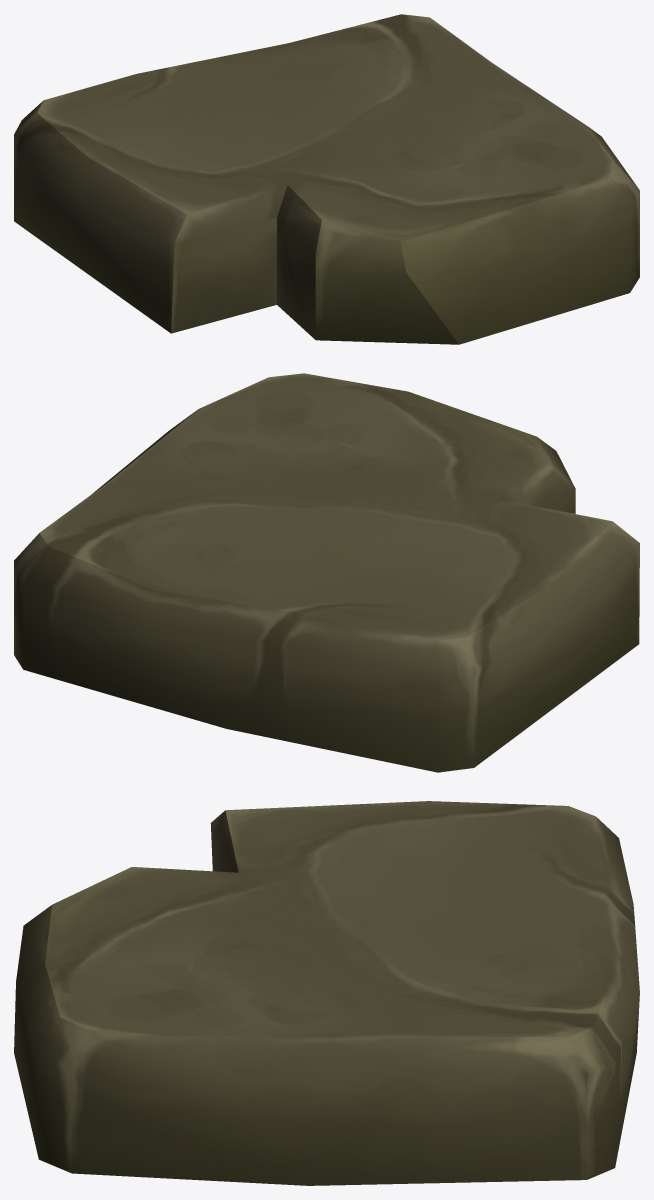
File: Tile_2.FBX
3 views of the same model, one above another, from view 1: azimuth 30°, elevation 25°; view 2: azimuth 150°, elevation 25°; view 3: azimuth 270°, elevation 25° (orthographic). The views are drawn at different scales.
Visible parts, largest first — view 1: Tile_2; view 2: Tile_2; view 3: Tile_2.
Part boxes in pixels (x1,y1,x2,y2): Tile_2: (14, 14, 639, 344); Tile_2: (14, 373, 639, 772); Tile_2: (14, 801, 639, 1185).
Size of what is drawn, in the model's own units: 124 by 125 by 29.59.
